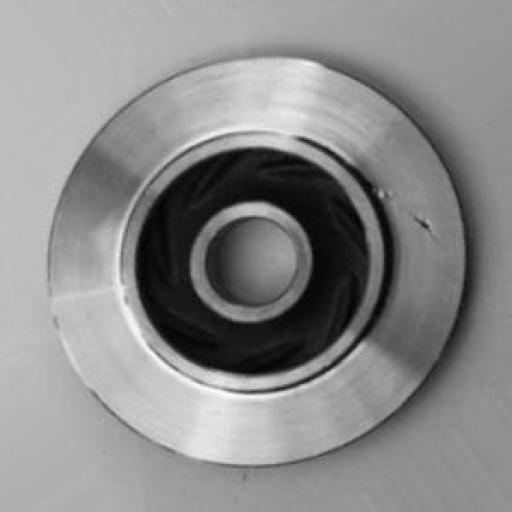defect: (350, 164, 460, 264)
